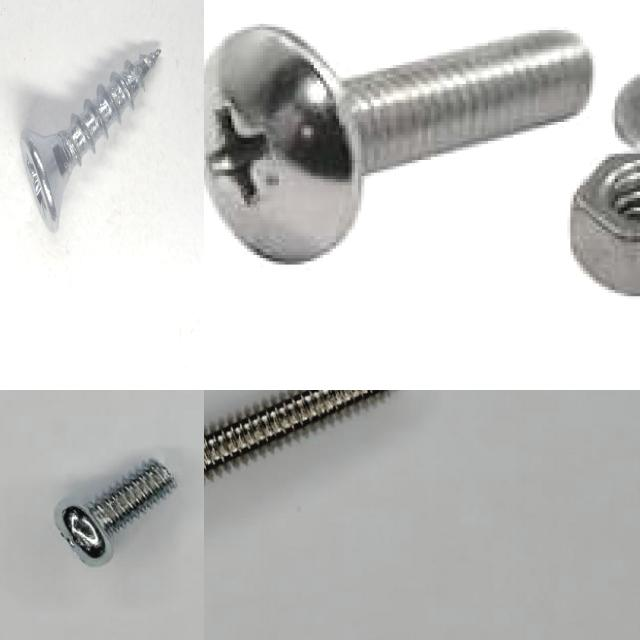Screw: (204, 27, 596, 265), (18, 45, 164, 237), (204, 390, 381, 475), (54, 461, 174, 567)
